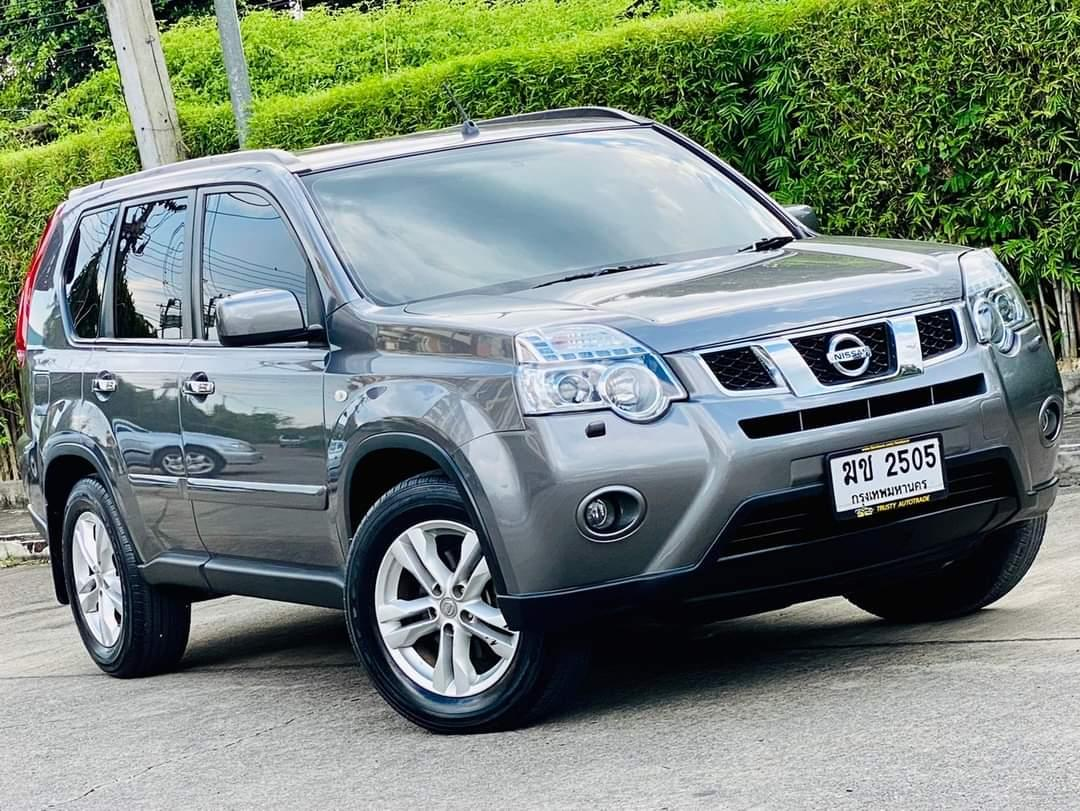license-plate: (824, 430, 951, 530)
